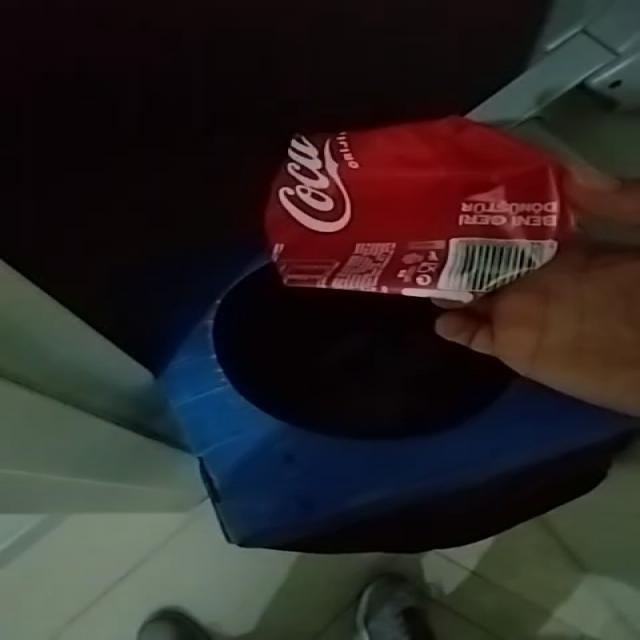Bin: (160, 318, 639, 554)
Metal: (152, 246, 633, 553), (265, 116, 571, 300), (209, 116, 382, 298)
